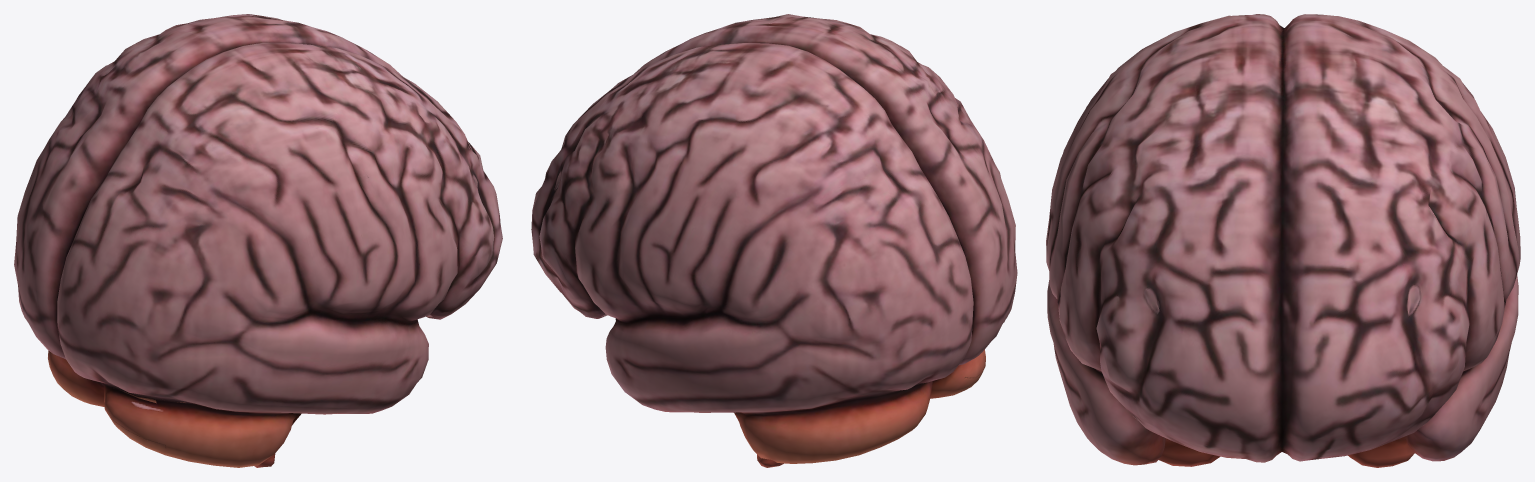
The model's file is smash_brain_01.glb.
The picture shows the model from 3 angles, left to right: view 1: azimuth 30°, elevation 25°; view 2: azimuth 150°, elevation 25°; view 3: azimuth 270°, elevation 25°; orthographic projection. The views are drawn at different scales.
Parts seen in each view (by area): view 1: Object_4; view 2: Object_4; view 3: Object_4.
Part boxes in pixels (left/top/right/bottom): Object_4: left=14, top=14, right=502, bottom=467; Object_4: left=531, top=14, right=1017, bottom=467; Object_4: left=1046, top=14, right=1520, bottom=467.
Size of the model in its own units: 0.9986 by 0.8741 by 0.8373.
1 material, 1 textured.
